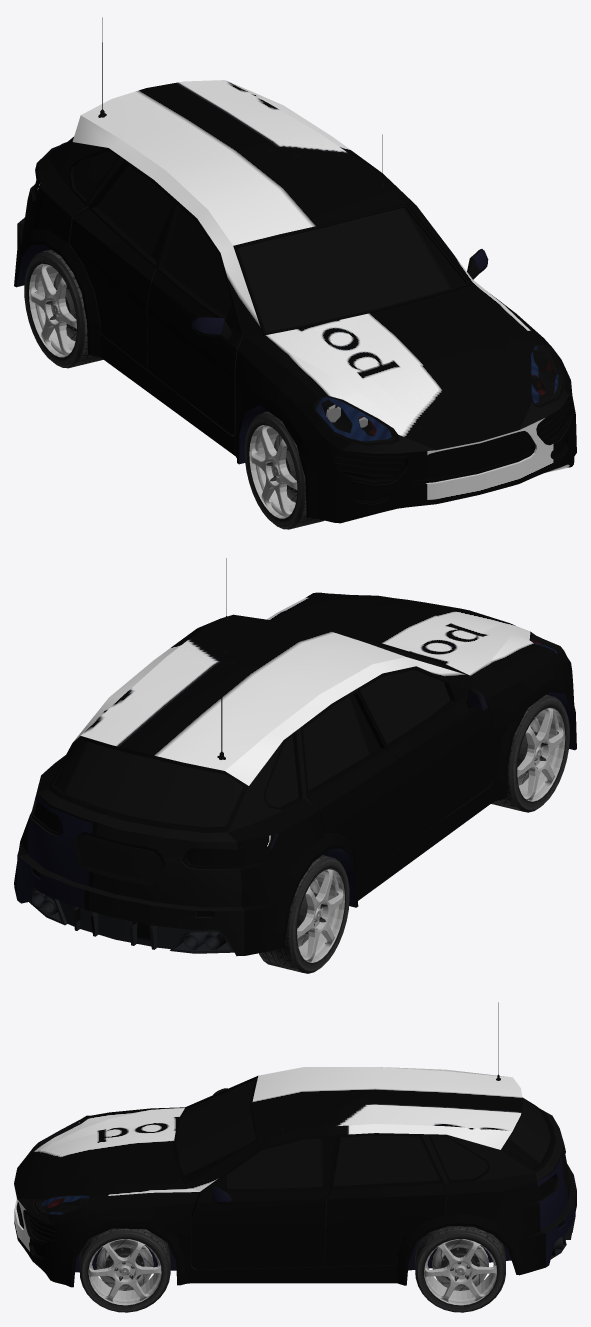
Rendered from PoliceCar7.FBX.
3 renders of one model, top to bottom at view 1: azimuth 30°, elevation 25°; view 2: azimuth 150°, elevation 25°; view 3: azimuth 270°, elevation 25°, orthographic. The views are drawn at different scales.
Visible parts, largest first — view 1: Body, BR, FR; view 2: Body, BR, FR; view 3: Body, BL, FL.
Boxes of the visible parts, box(x1,y1,x2,y2) form: Body: box(14, 17, 576, 523); BR: box(24, 249, 103, 368); FR: box(244, 411, 324, 529); Body: box(14, 558, 576, 956); BR: box(259, 855, 349, 973); FR: box(491, 694, 569, 812); Body: box(14, 1002, 576, 1287); BL: box(415, 1226, 505, 1312); FL: box(79, 1228, 170, 1312).
Size of the model in its own units: 20.29 by 20.76 by 44.33.
